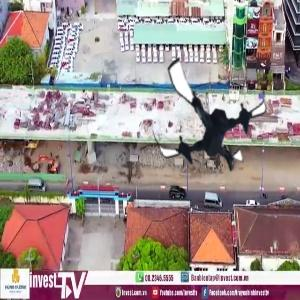drone: (145, 51, 274, 180)
